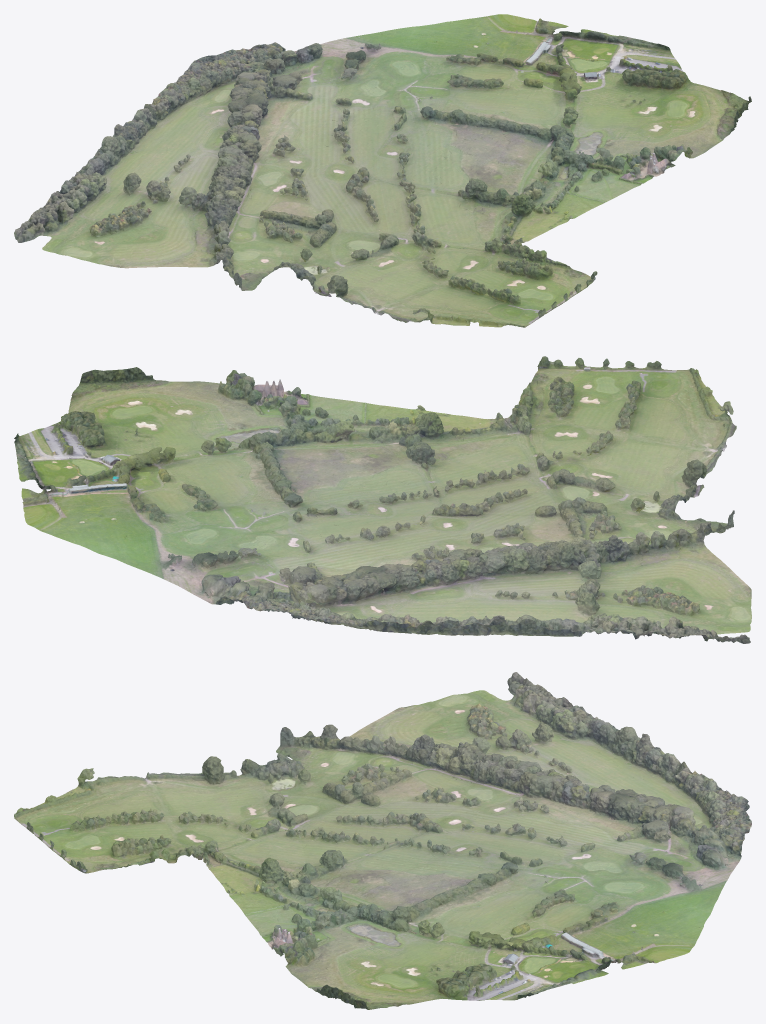
The model's file is golf_course_v2.glb.
The picture shows the model from 3 angles, top to bottom: view 1: azimuth 30°, elevation 25°; view 2: azimuth 150°, elevation 25°; view 3: azimuth 270°, elevation 25°; orthographic projection. The views are drawn at different scales.
Bounding box in the file's own units: 60 × 3.2 × 52.5.
1 material, 1 textured.
